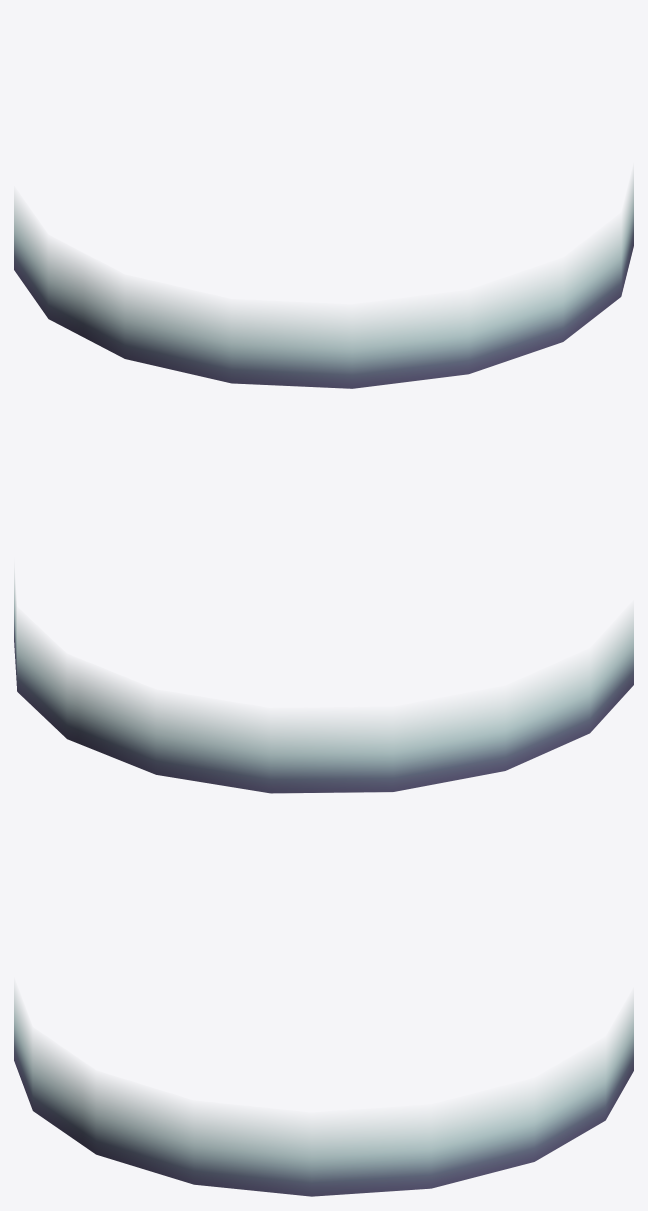
The model's file is aura.glb.
3 views of the same model, one above another, from view 1: azimuth 30°, elevation 25°; view 2: azimuth 150°, elevation 25°; view 3: azimuth 270°, elevation 25° (orthographic).
Visible parts, largest first — view 1: Cylinder; view 2: Cylinder; view 3: Cylinder.
Boxes of the visible parts, box(x1,y1,x2,y2) form: Cylinder: box(14, 172, 633, 388); Cylinder: box(14, 571, 633, 793); Cylinder: box(14, 986, 633, 1196).
Bounding box in the file's own units: 9.99 × 2 × 9.99.
Materials: 1 (1 with a texture image).
